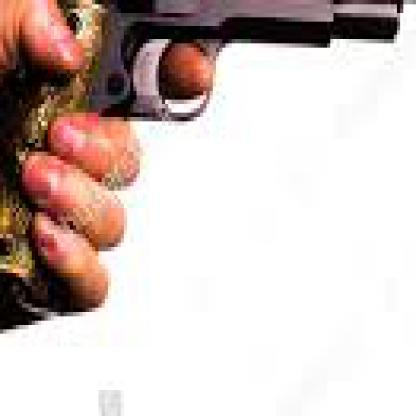gun: (0, 0, 413, 334)
